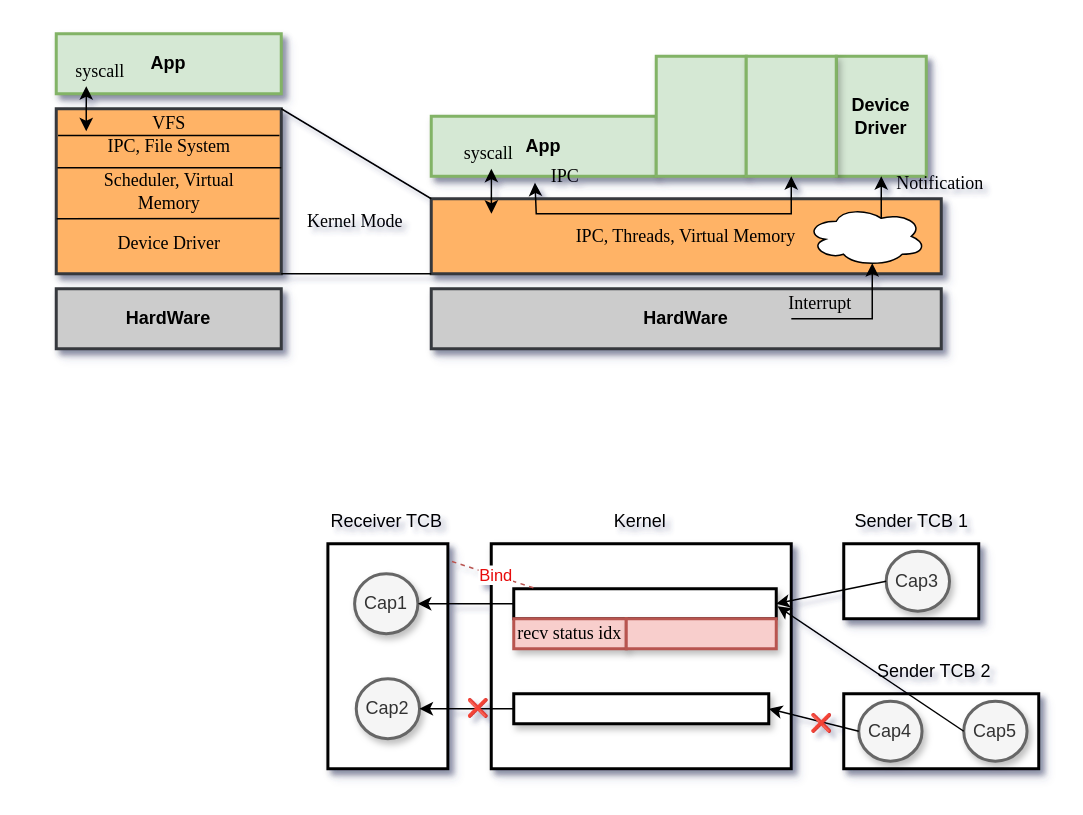
Some shapes in this 1083 by 815 pixel diagram are drawn without their labels. Here are the shapes that lost their labels. From the top down, the centre of each, then its label:
At (702,118): "NW protocol Stack".
At (792,118): "File System".
At (865,235): "Scheduler".
At (646,605): "NTFN Object 1".
At (702,635): "send status entries".
At (642,710): "NTFN Object 2".
